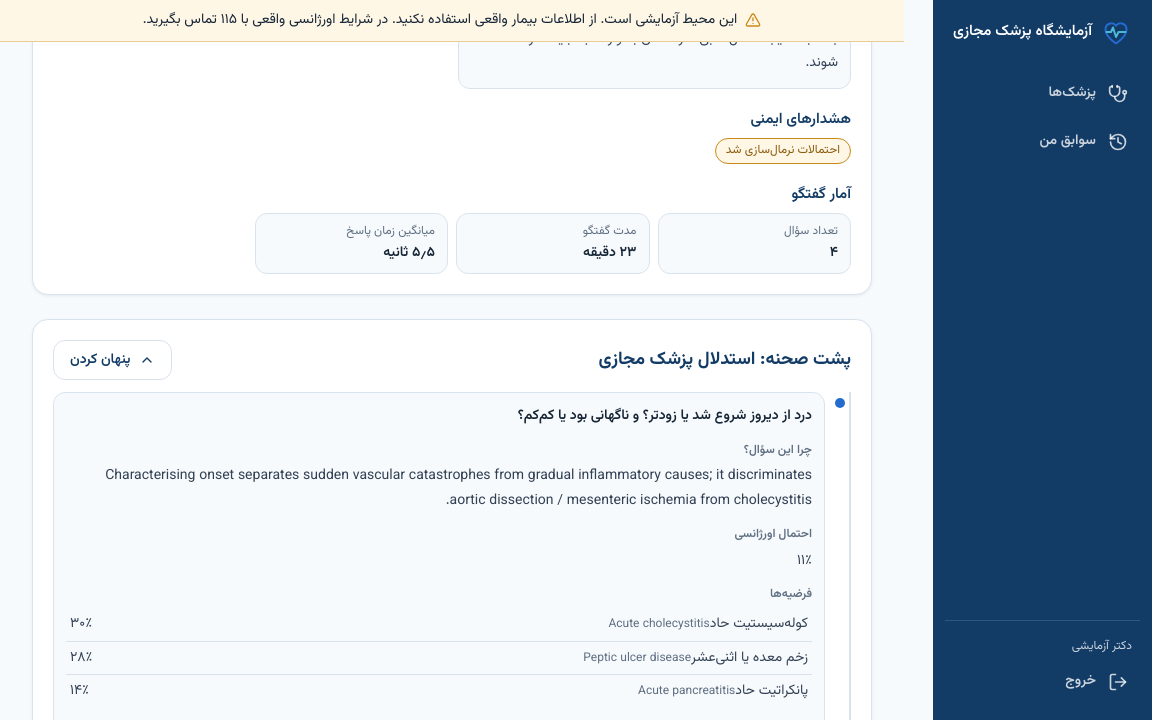
backstage — structured (b-) session › collapses and expands the whole panel
This screenshot has width=1152, height=720.
(page scrolled)
Click the button "پنهان کردن" at {"x": 112, "y": 360}, box [53,340,172,380]
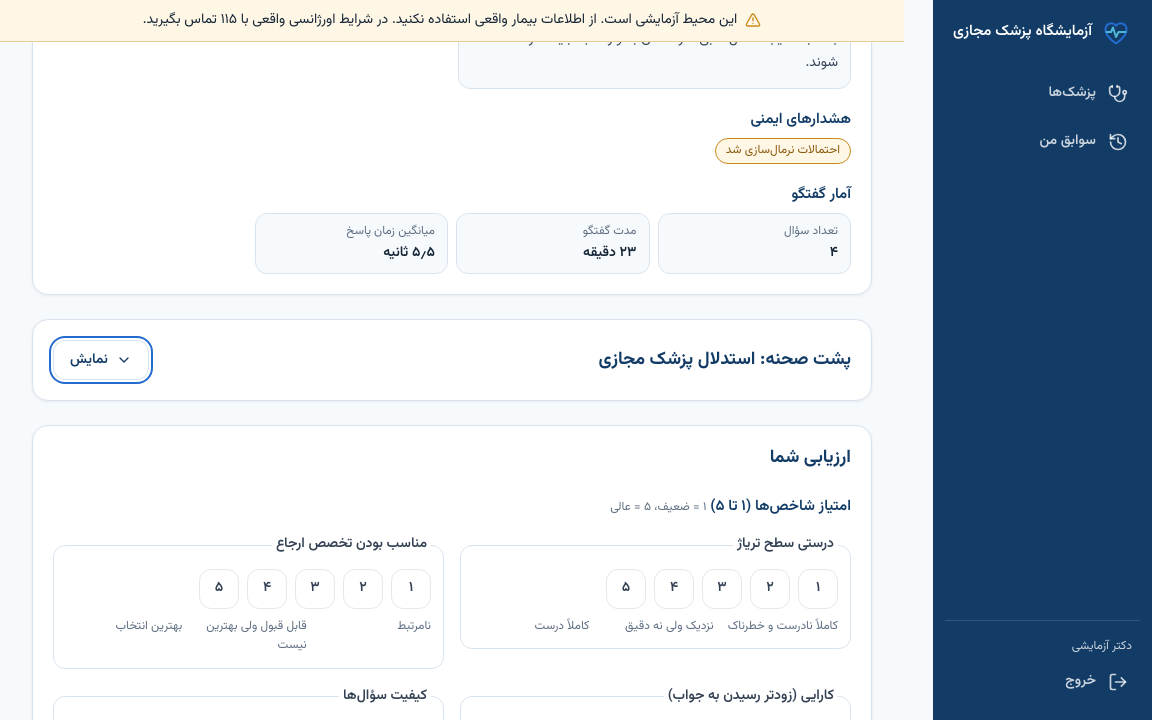
Now no list items with test id "backstage-turn" are shown
Click the button "نمایش" at {"x": 101, "y": 360}, box [53,340,149,380]
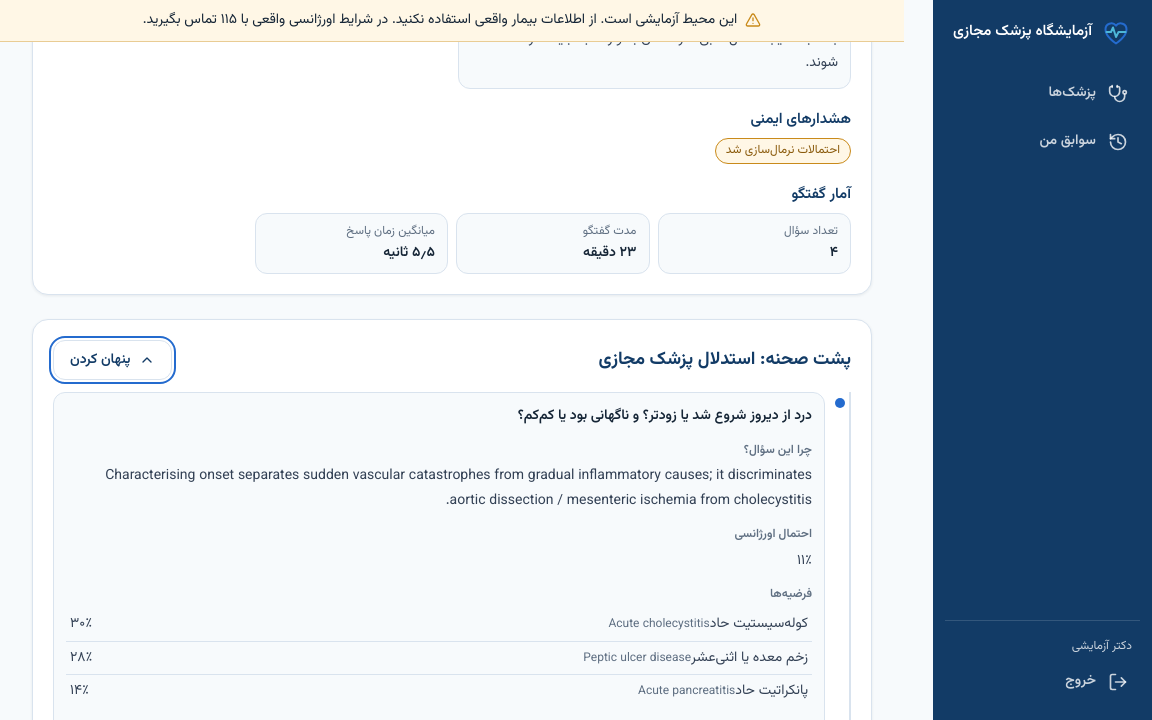
Now the number of list items with test id "backstage-turn" is 5
